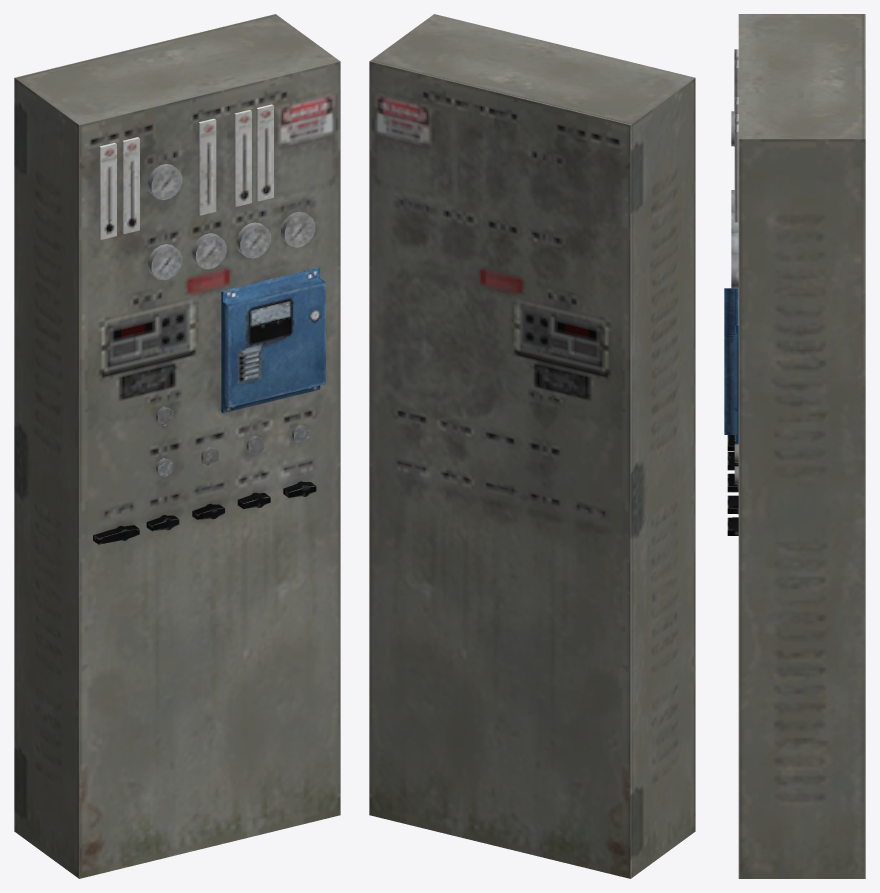
The model's file is sm22_014_switchboard04a.fbx.
3 renders of one model, left to right at view 1: azimuth 30°, elevation 25°; view 2: azimuth 150°, elevation 25°; view 3: azimuth 270°, elevation 25°, orthographic.
Visible parts, largest first — view 1: LOD_1_Group_0_Sub_1__sm22_014_Switchboard04A_A_Mat, LOD_1_Group_1_Sub_1__sm22_014_Switchboard04A_A_Mat; view 2: LOD_1_Group_0_Sub_1__sm22_014_Switchboard04A_A_Mat; view 3: LOD_1_Group_0_Sub_1__sm22_014_Switchboard04A_A_Mat, LOD_1_Group_1_Sub_1__sm22_014_Switchboard04A_A_Mat.
Boxes of the visible parts, bbox=[...] form: LOD_1_Group_0_Sub_1__sm22_014_Switchboard04A_A_Mat: bbox=[14, 14, 340, 878]; LOD_1_Group_1_Sub_1__sm22_014_Switchboard04A_A_Mat: bbox=[93, 104, 325, 544]; LOD_1_Group_0_Sub_1__sm22_014_Switchboard04A_A_Mat: bbox=[369, 14, 695, 878]; LOD_1_Group_0_Sub_1__sm22_014_Switchboard04A_A_Mat: bbox=[738, 14, 865, 878]; LOD_1_Group_1_Sub_1__sm22_014_Switchboard04A_A_Mat: bbox=[724, 49, 738, 535].
Bounding box in the file's own units: 0.7254 × 2 × 0.3467.
